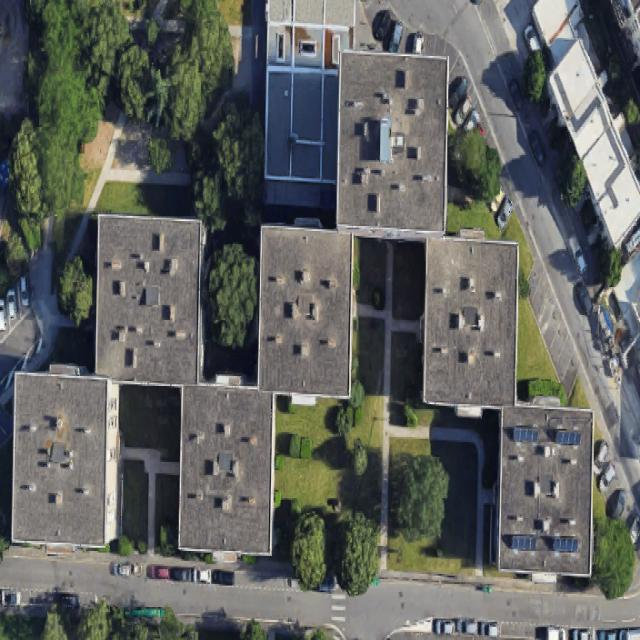immeuble: (529, 37, 640, 249), (336, 51, 447, 237), (10, 373, 118, 546), (93, 214, 201, 383), (494, 405, 593, 575), (177, 386, 276, 553), (421, 235, 517, 407), (259, 226, 350, 396)
